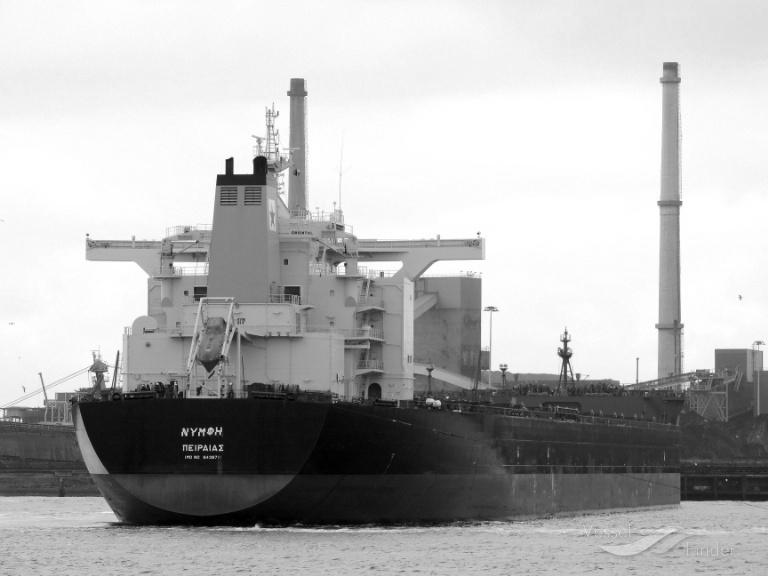OCR: (174, 424, 228, 442)
